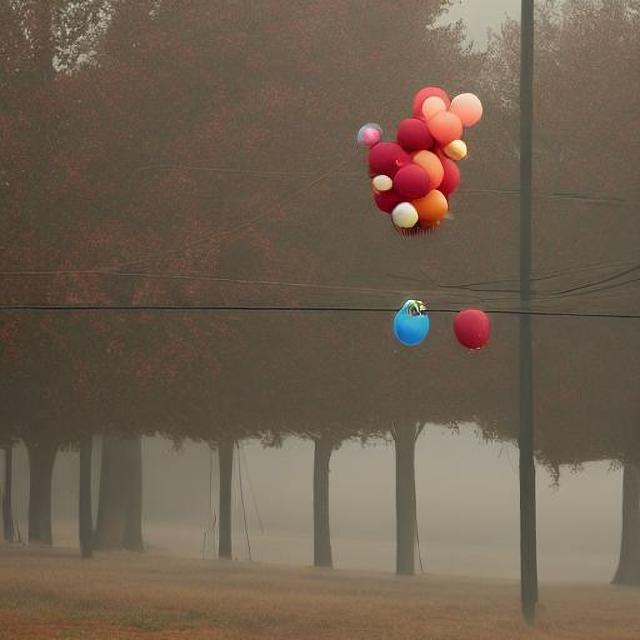balloon: (355, 86, 476, 230), (398, 300, 480, 355), (442, 306, 493, 356)
